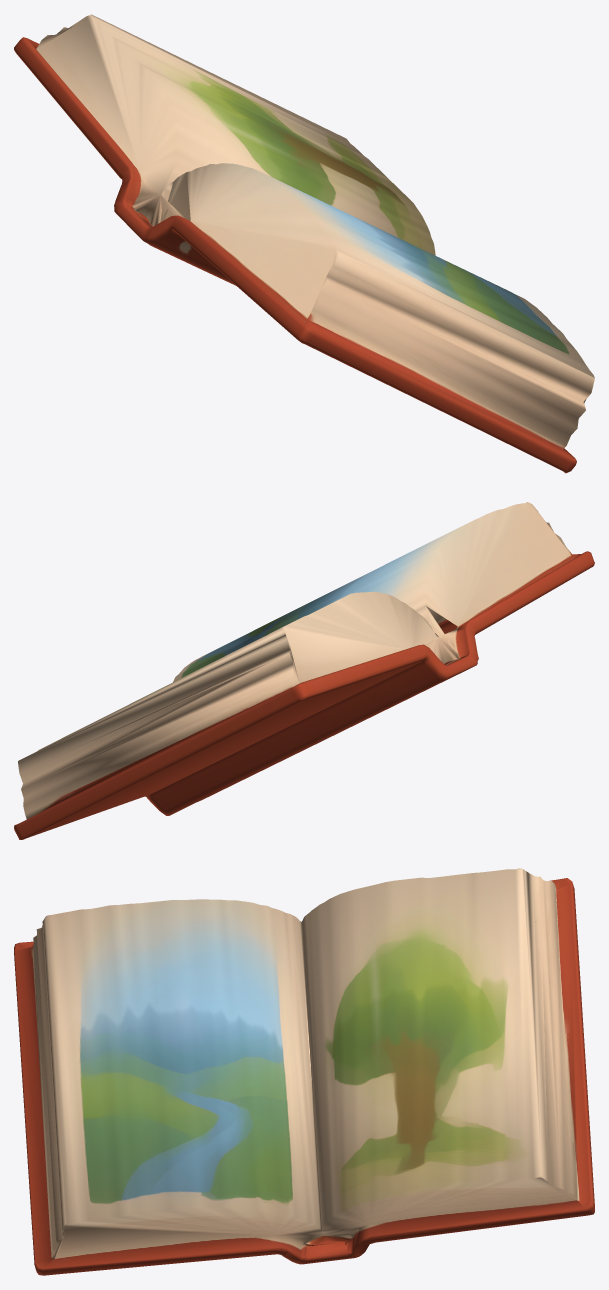
The model's file is journal.glb.
3 views of the same model, one above another, from view 1: azimuth 30°, elevation 25°; view 2: azimuth 150°, elevation 25°; view 3: azimuth 270°, elevation 25° (orthographic). The views are drawn at different scales.
Visible parts, largest first — view 1: tripo_node_74e2f757-0c81-4a0c-bb30-900b60b6b8e9; view 2: tripo_node_74e2f757-0c81-4a0c-bb30-900b60b6b8e9; view 3: tripo_node_74e2f757-0c81-4a0c-bb30-900b60b6b8e9.
Part boxes in pixels (left/top/right/bottom): tripo_node_74e2f757-0c81-4a0c-bb30-900b60b6b8e9: left=14, top=14, right=594, bottom=473; tripo_node_74e2f757-0c81-4a0c-bb30-900b60b6b8e9: left=14, top=502, right=594, bottom=839; tripo_node_74e2f757-0c81-4a0c-bb30-900b60b6b8e9: left=14, top=868, right=594, bottom=1275.
Bounding box in the file's own units: 0.6426 × 0.5801 × 0.998.
1 material, 1 textured.
